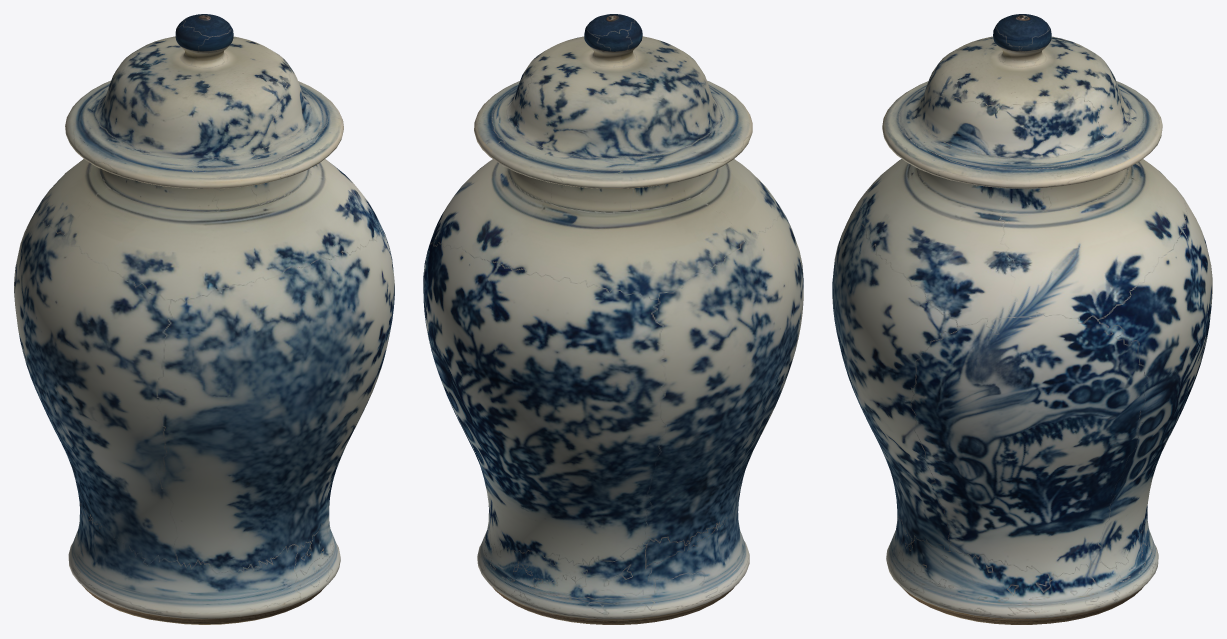
The model's file is 18-qing-kangxi-jar.glb.
3 views of the same model, side by side, from view 1: azimuth 30°, elevation 25°; view 2: azimuth 150°, elevation 25°; view 3: azimuth 270°, elevation 25° (orthographic).
Visible parts, largest first — view 1: node_0_Retopo; view 2: node_0_Retopo; view 3: node_0_Retopo.
Boxes of the visible parts, x1=… form: node_0_Retopo: x1=14, y1=14, x2=394, y2=624; node_0_Retopo: x1=423, y1=14, x2=803, y2=624; node_0_Retopo: x1=832, y1=14, x2=1212, y2=624.
Bounding box in the file's own units: 0.1747 × 0.2824 × 0.1745.
1 material, 1 textured.
